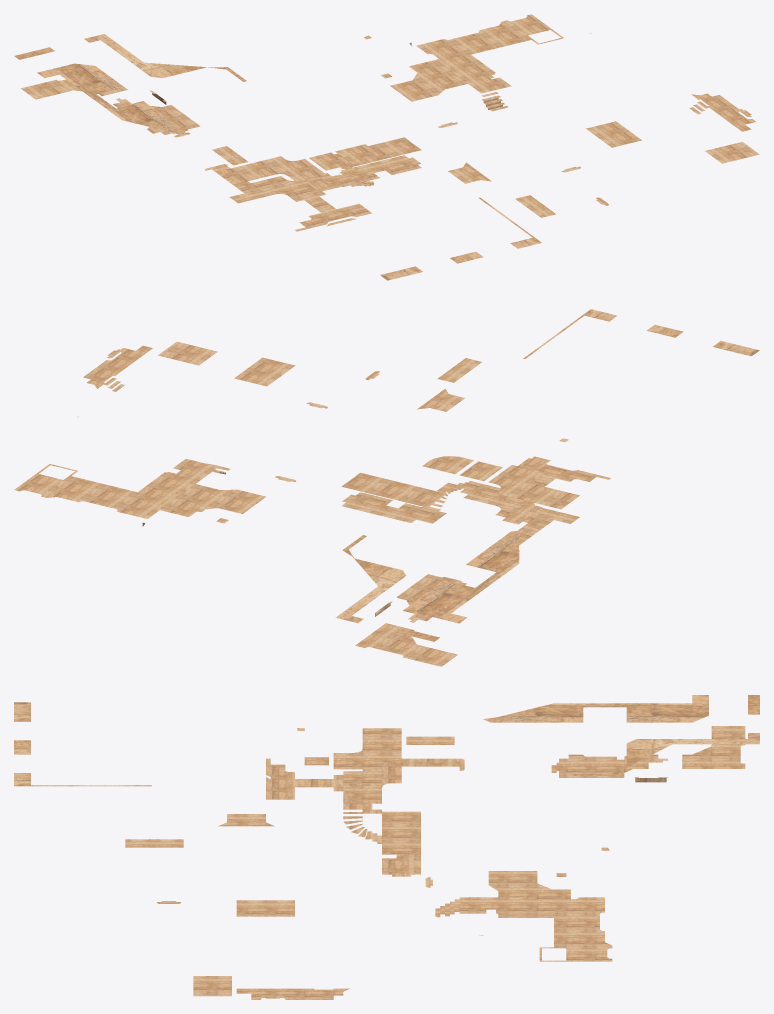
The picture shows the model from 3 angles, top to bottom: view 1: azimuth 30°, elevation 25°; view 2: azimuth 150°, elevation 25°; view 3: azimuth 270°, elevation 25°; orthographic projection. The views are drawn at different scales.
Visible parts, largest first — view 1: Object_3; view 2: Object_3; view 3: Object_3.
Part boxes in pixels (x1,y1,x2,y2): Object_3: [14, 14, 759, 280]; Object_3: [14, 309, 759, 666]; Object_3: [14, 695, 759, 999].
Bounding box in the file's own units: 58.24 × 6.19 × 65.71.
Materials: 1 (1 with a texture image).
